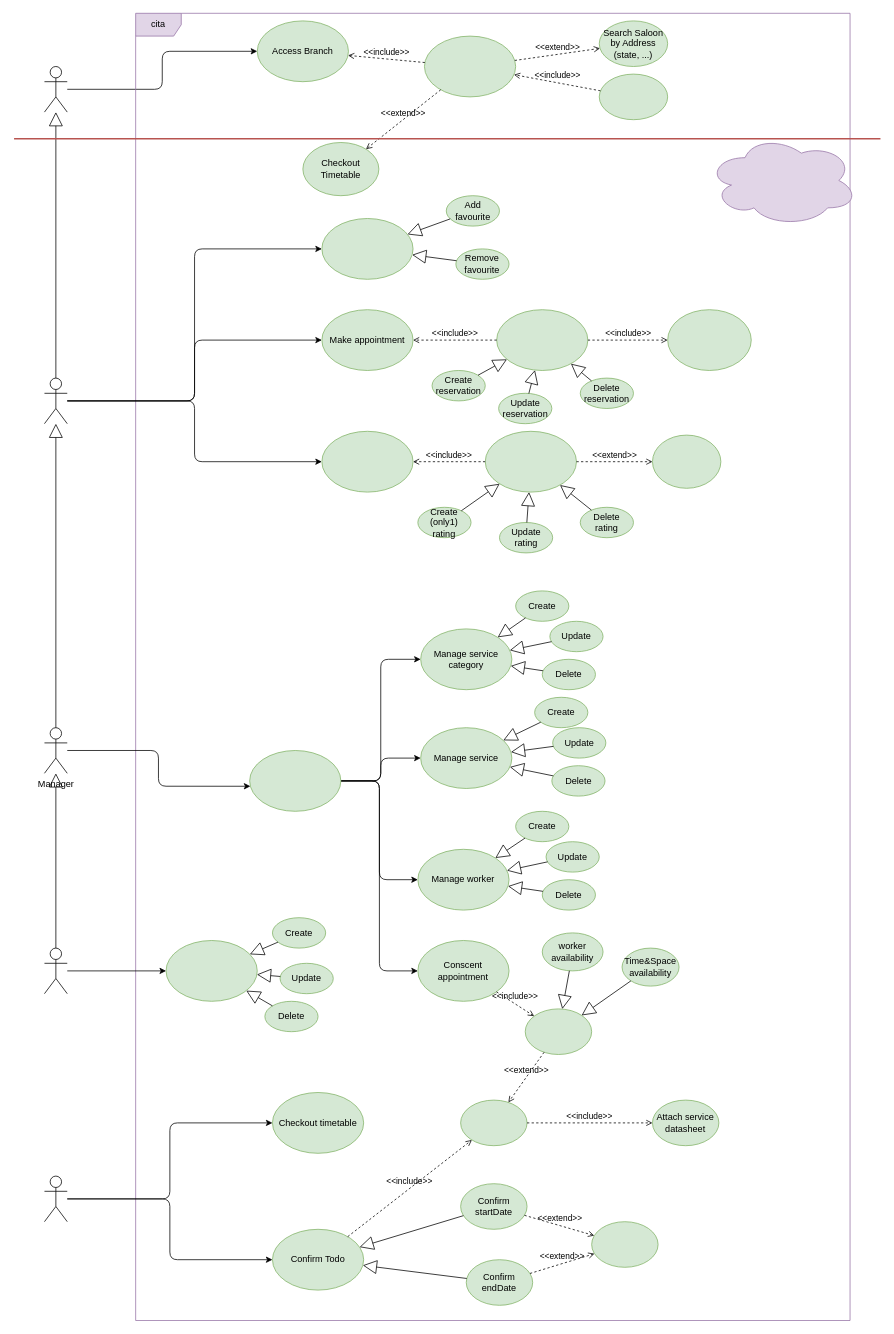
Image size: 894x1334. Some labels were removed from this diagram. Here are the shapes that lost their labels. From the top down, the centre of each, then its label:
At [470,66]: "Visit Saloon".
At [55,89]: "Visitor".
At [633,96]: "Checkout Saloon service details".
At [782,180]: "Authenticated".
At [367,248]: "Manage Saloon favourites".
At [542,339]: "Manage reservation".
At [709,339]: "Add provided service".
At [55,400]: "Customer".
At [367,461]: "Rate Worker".
At [530,461]: "Manage Rating".
At [686,461]: "Describe Rating".
At [295,780]: "Perform utilities".
At [55,970]: "Owner".
At [211,970]: "Manage Saloon".
At [558,1031]: "Check availability".
At [493,1122]: "Engage worker".
At [55,1198]: "Worker".
At [624,1244]: "Describe".
